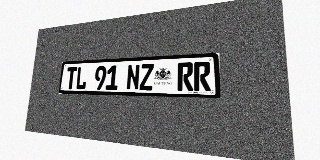1: (105, 65, 119, 90)
9: (94, 66, 107, 90)
L: (75, 66, 88, 89)
N: (126, 64, 140, 90)
R: (194, 61, 211, 91), (177, 62, 193, 91)
T: (65, 67, 77, 89)
Z: (139, 64, 154, 90)
